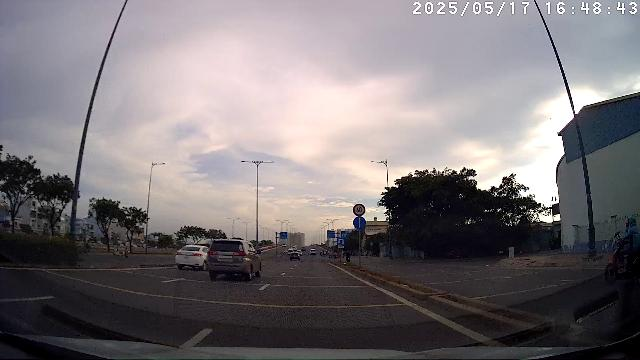127-toc-do-toi-da-60: (353, 203, 366, 216)
301a-cac-xe-chi-duoc-di-thang: (353, 216, 366, 229)
